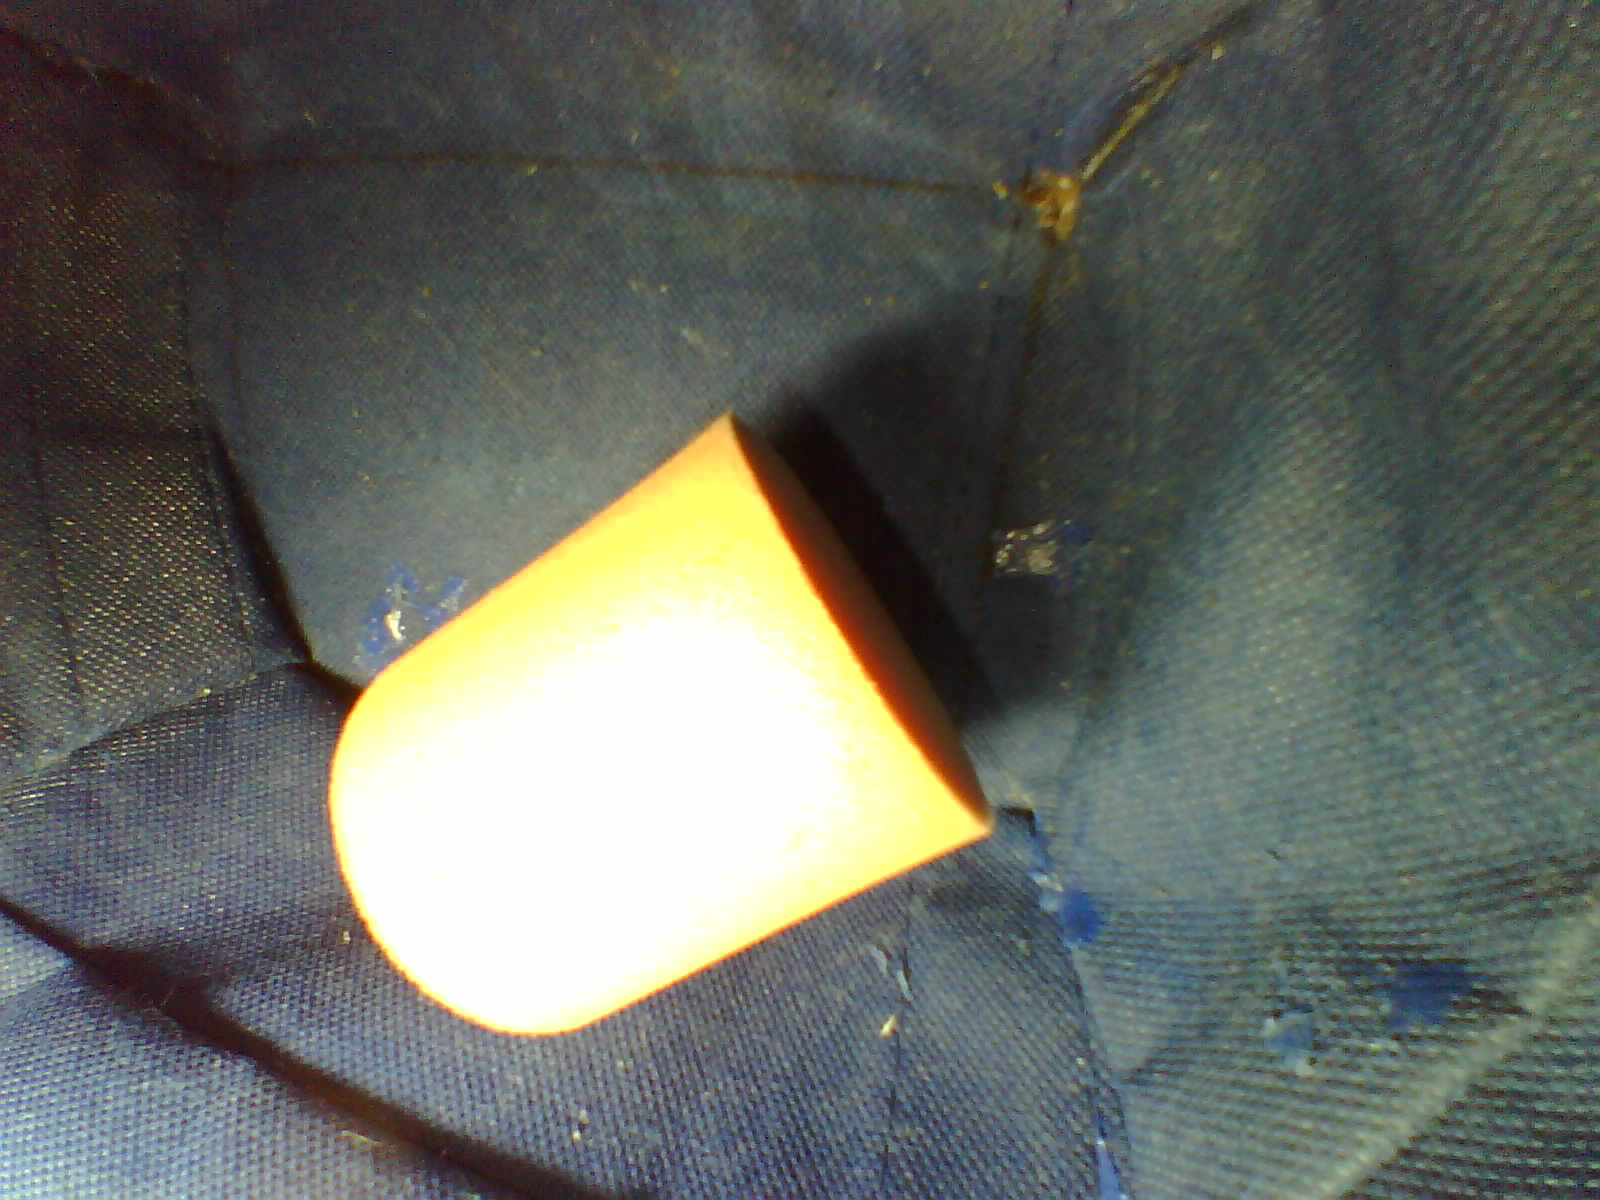cylinder-soft: (304, 393, 1007, 1054)
